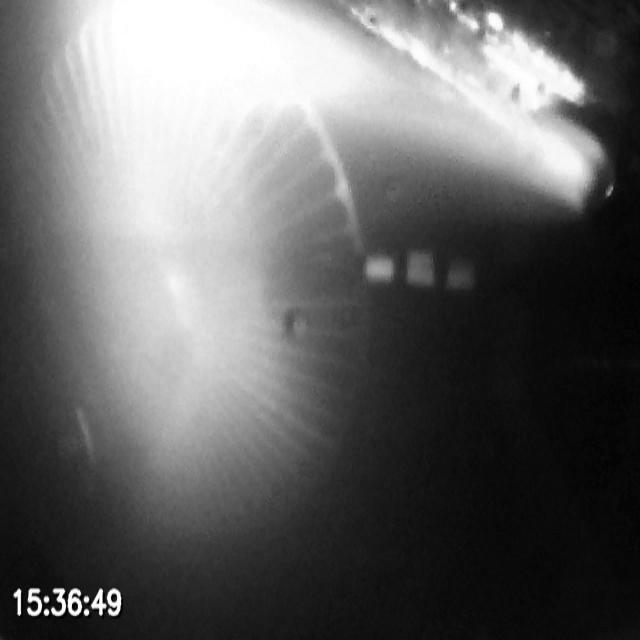white-dots: (361, 250, 479, 296)
